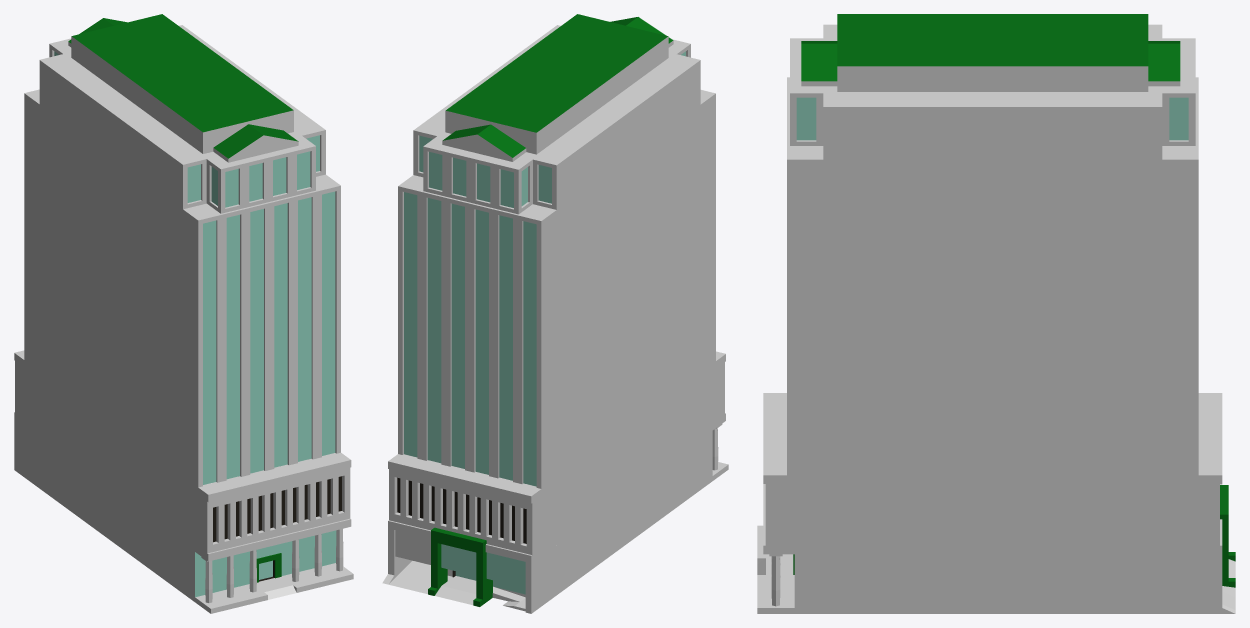
Rendered from Br Andrew Gonzales Hall.fbx.
The picture shows the model from 3 angles, left to right: view 1: azimuth 30°, elevation 25°; view 2: azimuth 150°, elevation 25°; view 3: azimuth 270°, elevation 25°; orthographic projection. The views are drawn at different scales.
Parts seen in each view (by area): view 1: Br Andrew Gonzales Hall; view 2: Br Andrew Gonzales Hall; view 3: Br Andrew Gonzales Hall.
Boxes of the visible parts, x1,y1,x2,y2 form: Br Andrew Gonzales Hall: (14, 14, 353, 613); Br Andrew Gonzales Hall: (382, 14, 728, 613); Br Andrew Gonzales Hall: (757, 14, 1235, 613).
Size of the model in its own units: 61.23 by 185 by 150.
